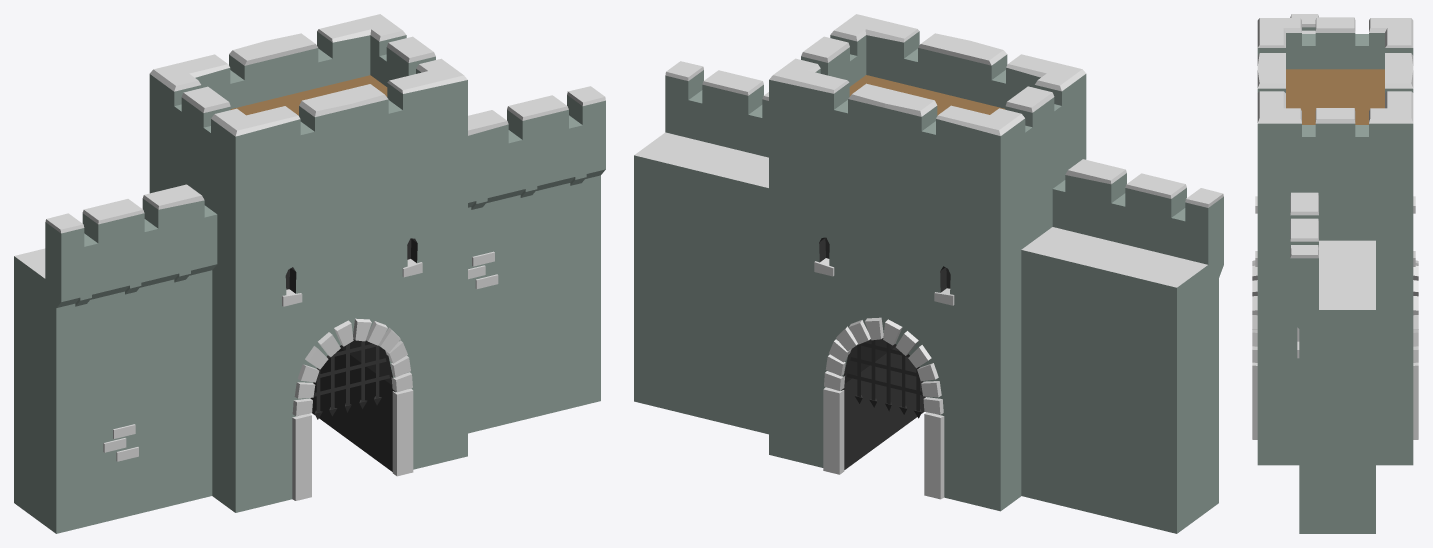
File: castle-gate_small.fbx
3 renders of one model, left to right at view 1: azimuth 30°, elevation 25°; view 2: azimuth 150°, elevation 25°; view 3: azimuth 270°, elevation 25°, orthographic. The views are drawn at different scales.
Visible parts, largest first — view 1: castle-gate_small; view 2: castle-gate_small; view 3: castle-gate_small.
Boxes of the visible parts, box(x1,y1,x2,y2) form: castle-gate_small: box(14, 14, 605, 533); castle-gate_small: box(634, 14, 1223, 533); castle-gate_small: box(1252, 14, 1418, 533).
Size of the model in its own units: 15 by 10.02 by 4.37.
